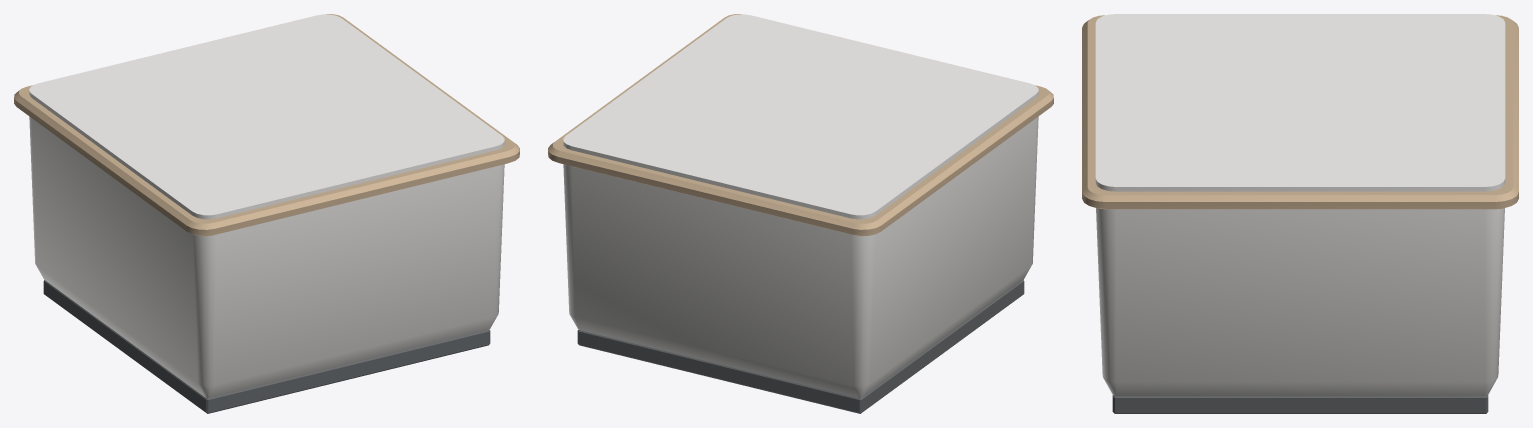
3 views of the same model, side by side, from view 1: azimuth 30°, elevation 25°; view 2: azimuth 150°, elevation 25°; view 3: azimuth 270°, elevation 25° (orthographic). The views are drawn at different scales.
Visible parts, largest first — view 1: atrium-planter-large; view 2: atrium-planter-large; view 3: atrium-planter-large.
Part boxes in pixels (x1,y1,x2,y2): atrium-planter-large: (14,14,519,413); atrium-planter-large: (548,14,1053,413); atrium-planter-large: (1082,14,1518,413).
Bounding box in the file's own units: 1.28 × 0.76 × 1.28.
